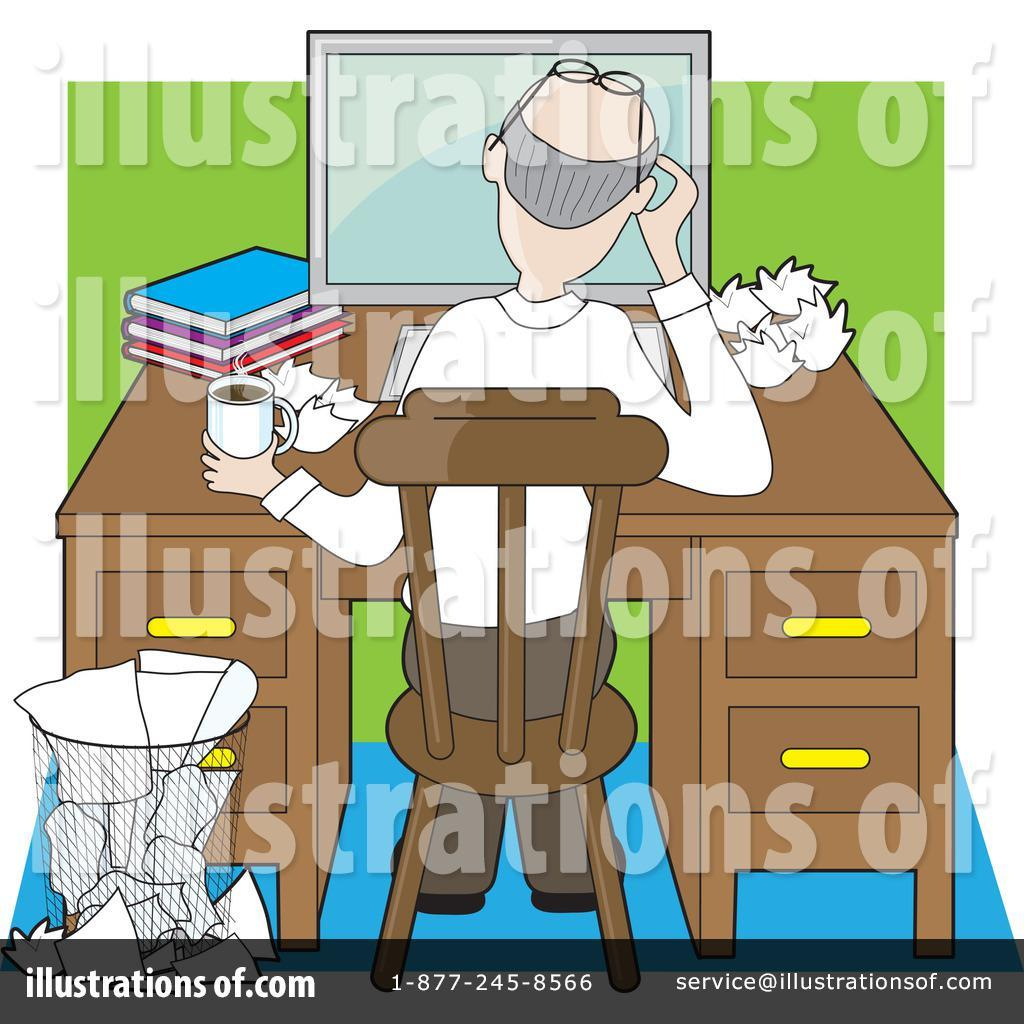chair: (337, 389, 687, 997)
person: (180, 50, 778, 916)
tvmonitor: (299, 25, 720, 403)
